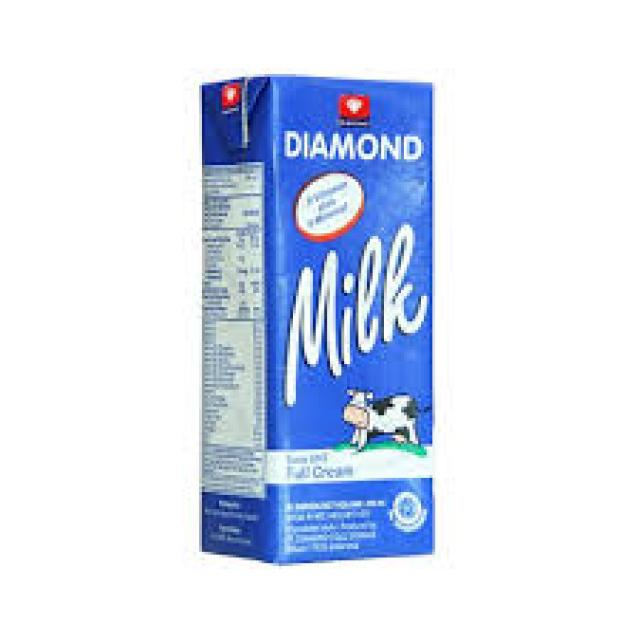susu_kotak: (200, 62, 446, 575)
